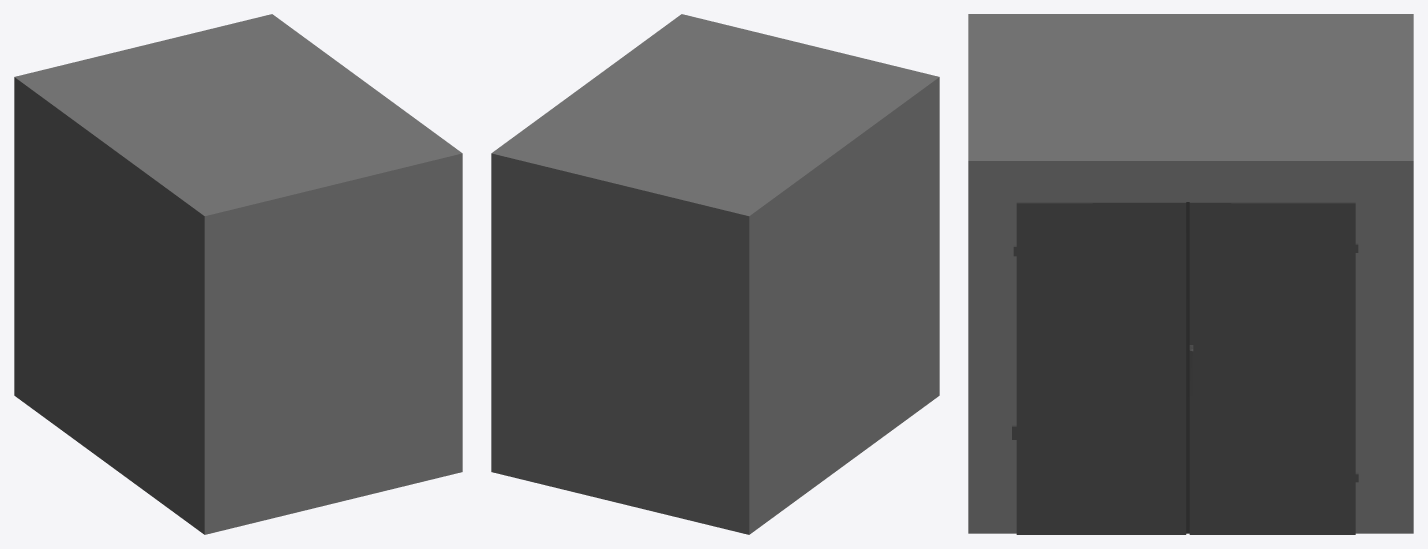
The model's file is Garaze_3.fbx.
The picture shows the model from 3 angles, left to right: view 1: azimuth 30°, elevation 25°; view 2: azimuth 150°, elevation 25°; view 3: azimuth 270°, elevation 25°; orthographic projection. The views are drawn at different scales.
Parts seen in each view (by area): view 1: Zielony; view 2: Zielony; view 3: Zielony.
Boxes of the visible parts, <box> form: Zielony: <box>14,14,462,534</box>; Zielony: <box>491,14,939,534</box>; Zielony: <box>968,14,1413,534</box>.
Bounding box in the file's own units: 256 × 236 × 208.
